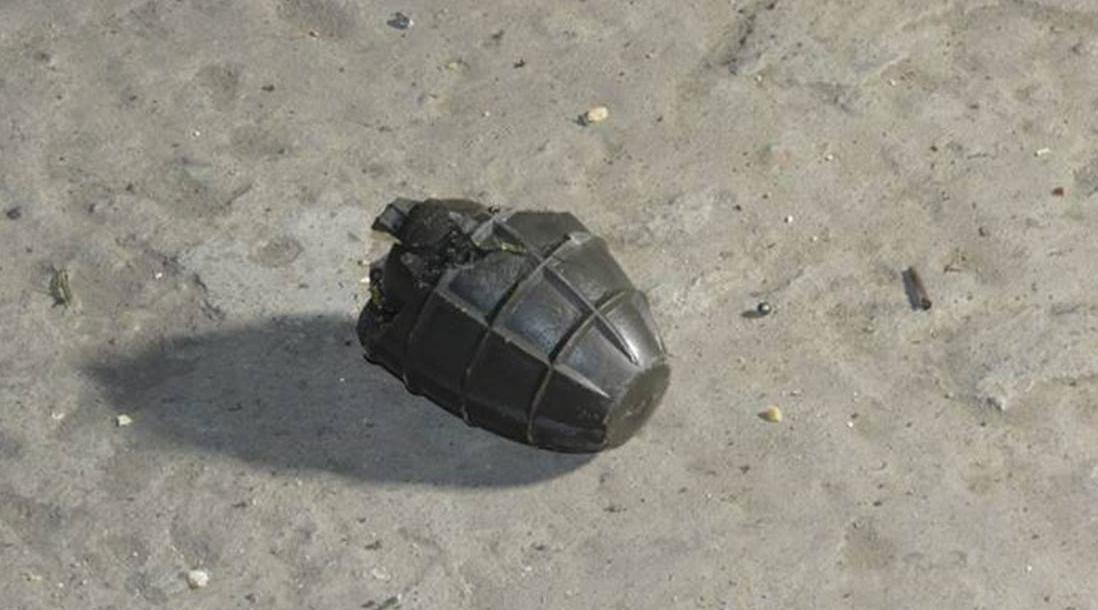Grenade: (353, 196, 669, 453)
